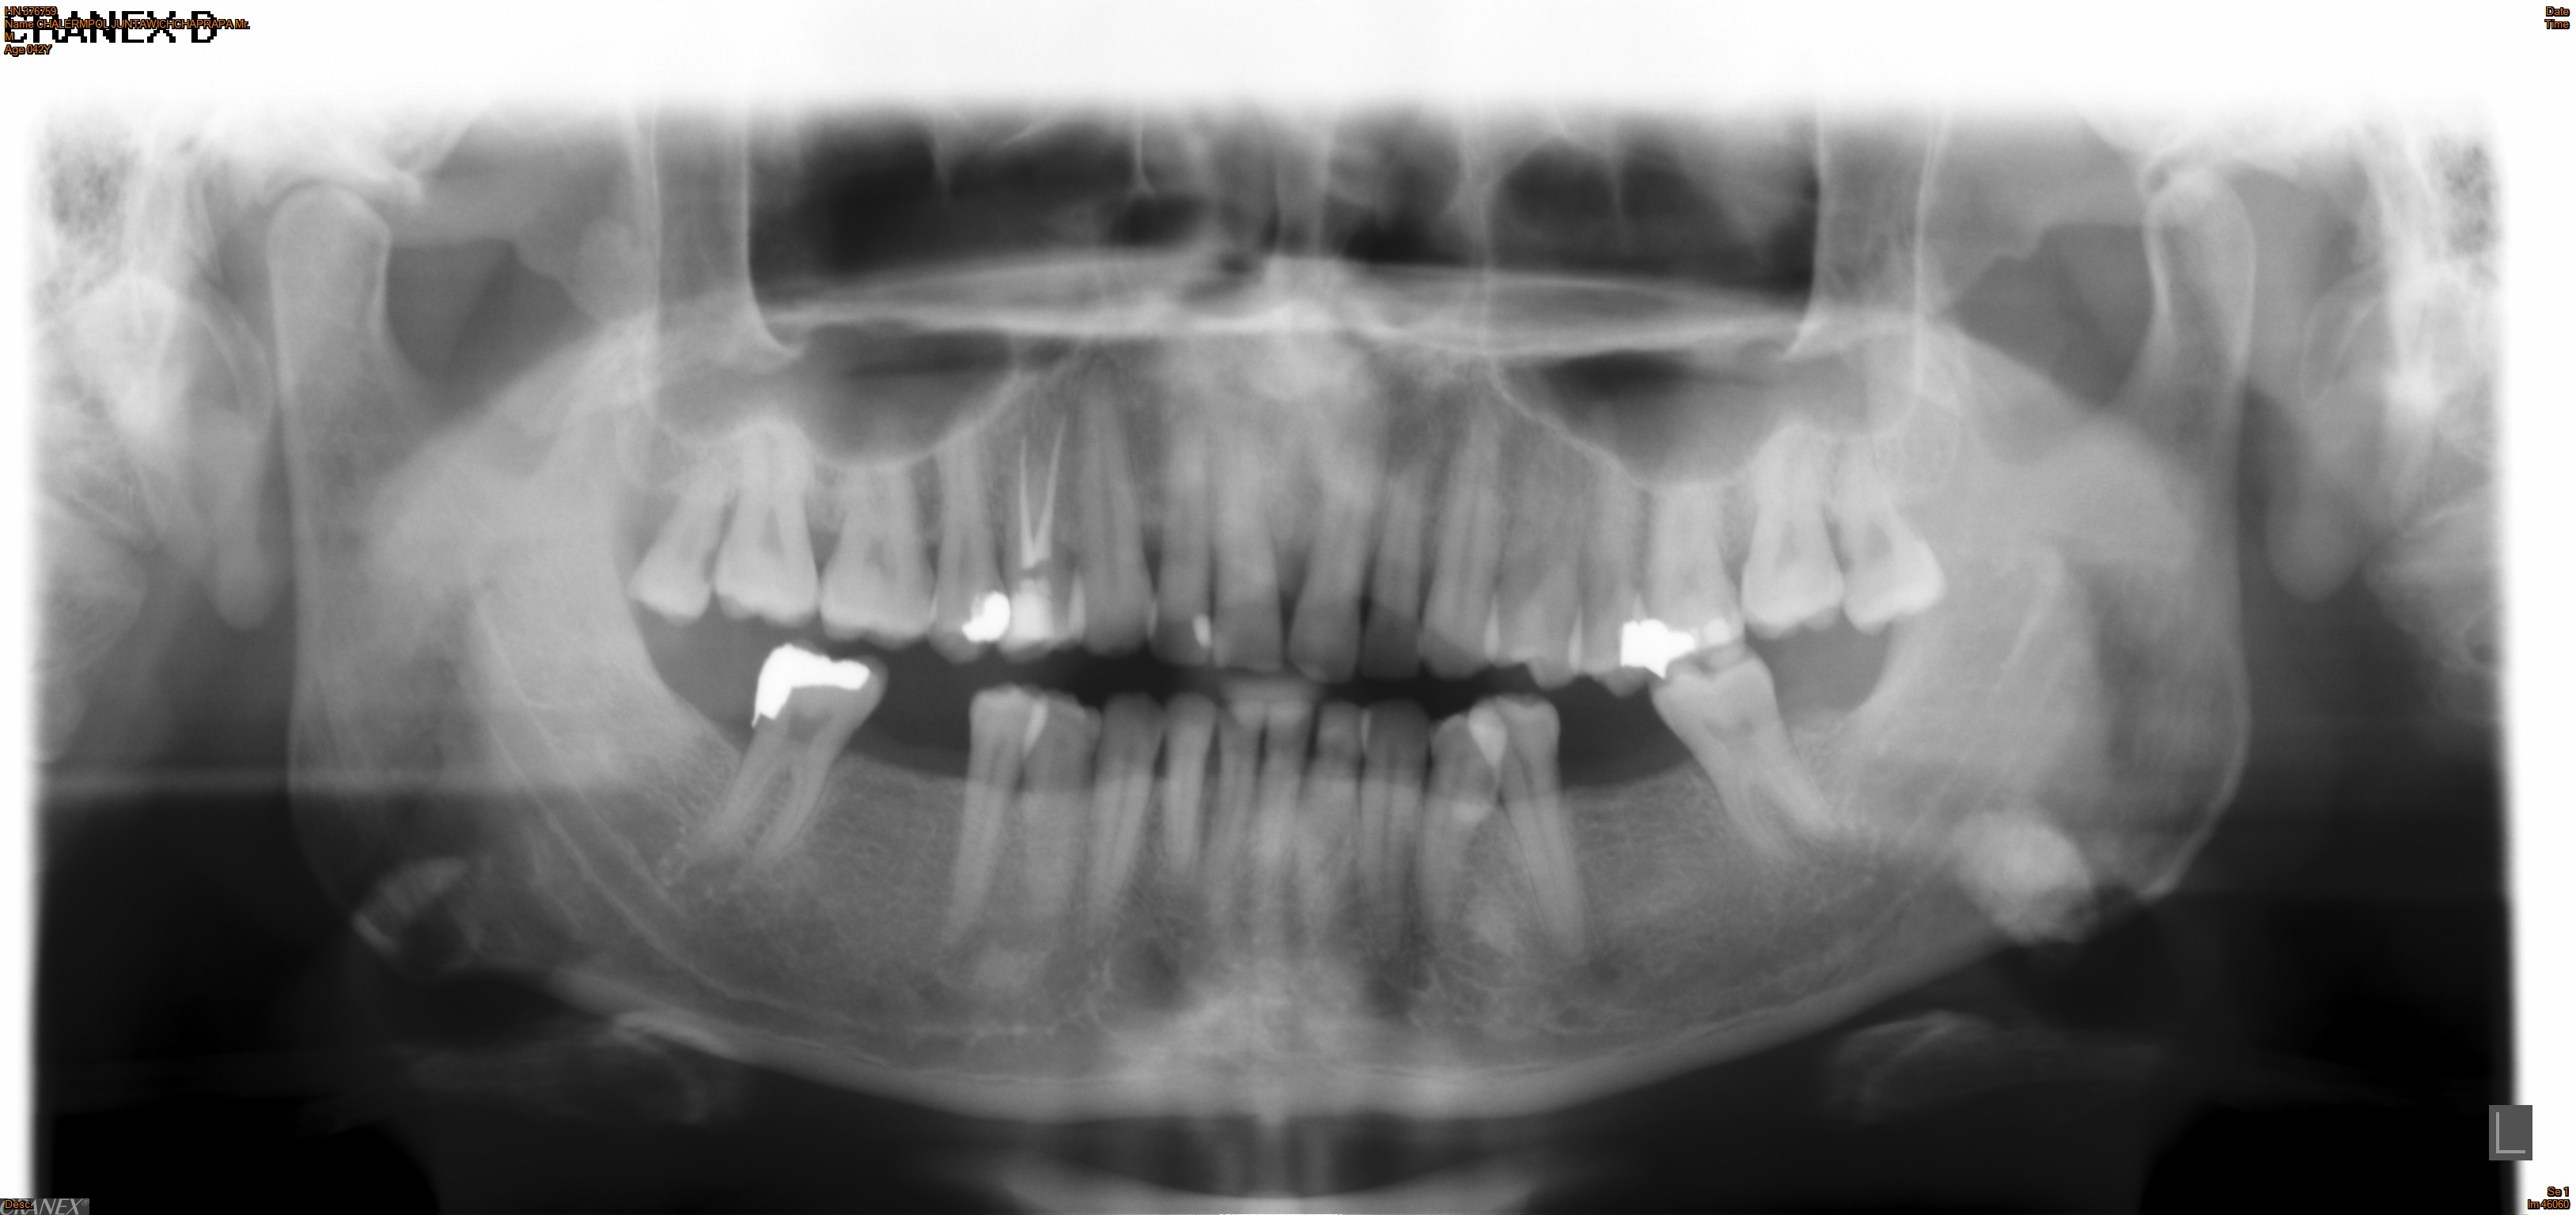periodontitis: (664, 634, 894, 901), (1644, 649, 1853, 875), (1459, 685, 1600, 974), (925, 678, 1055, 967)
